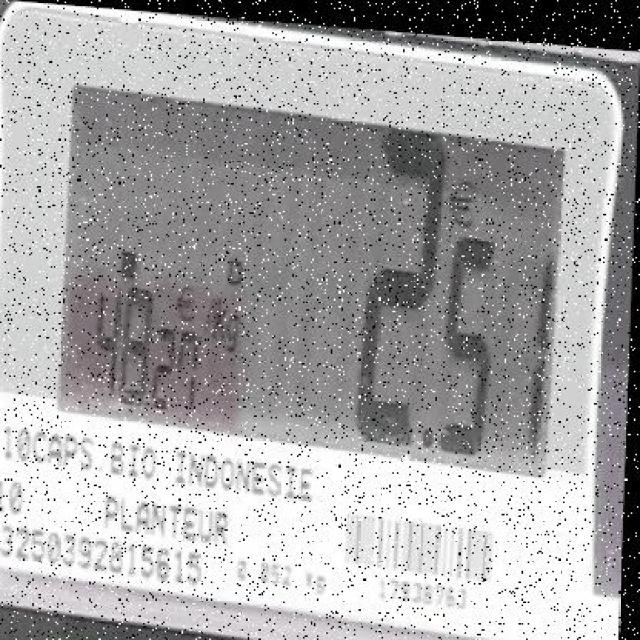display: (57, 85, 567, 480)
frame: (331, 121, 557, 467), (80, 272, 221, 418)
gauge: (0, 3, 640, 640)
